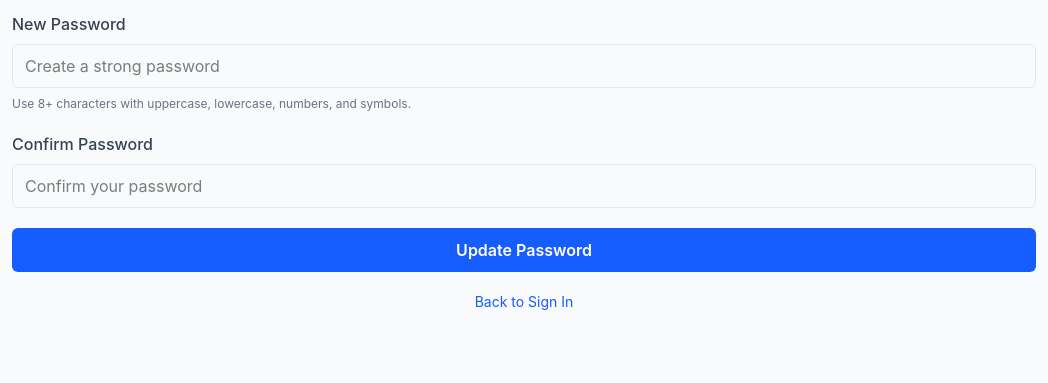
Scenario: ResetPasswordForm › new password mode (with token) › password validation same as registration form
This screenshot has width=1048, height=383.
Type "weak" into the password field labelled "New Password" at coordinates (524, 66), box [12, 44, 1036, 88]
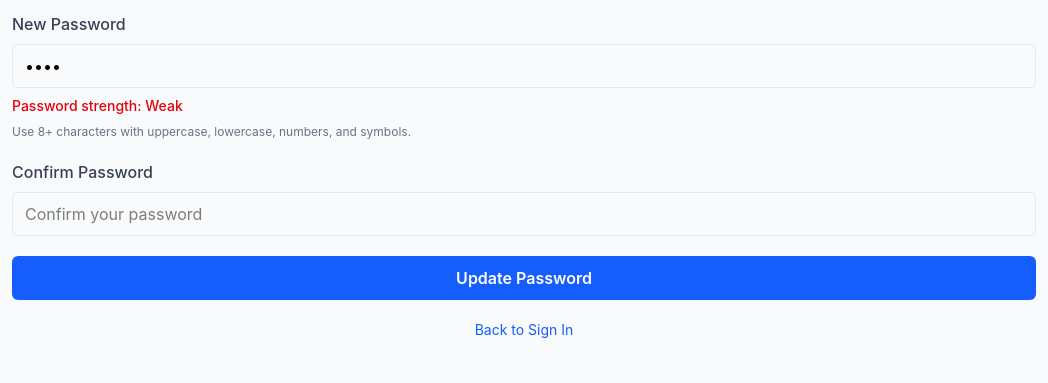
Type "weak" into the password field labelled "Confirm Password" at coordinates (524, 214), box [12, 192, 1036, 236]
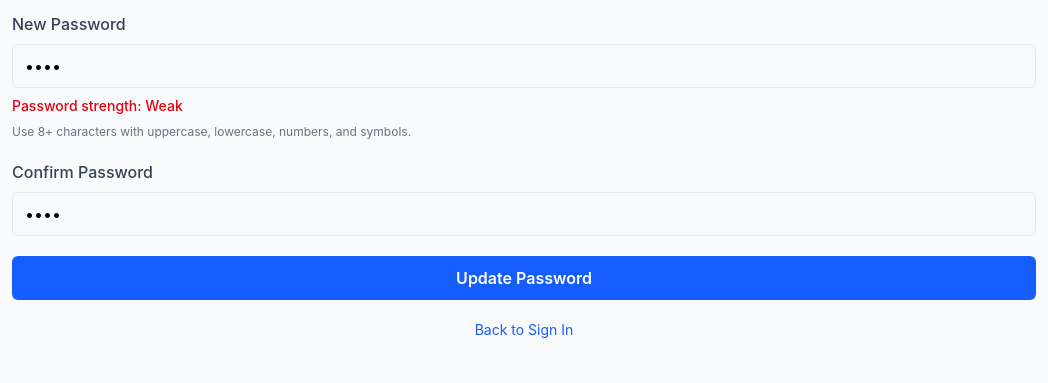
Click the button "Update Password" at coordinates (524, 278), box [12, 256, 1036, 300]
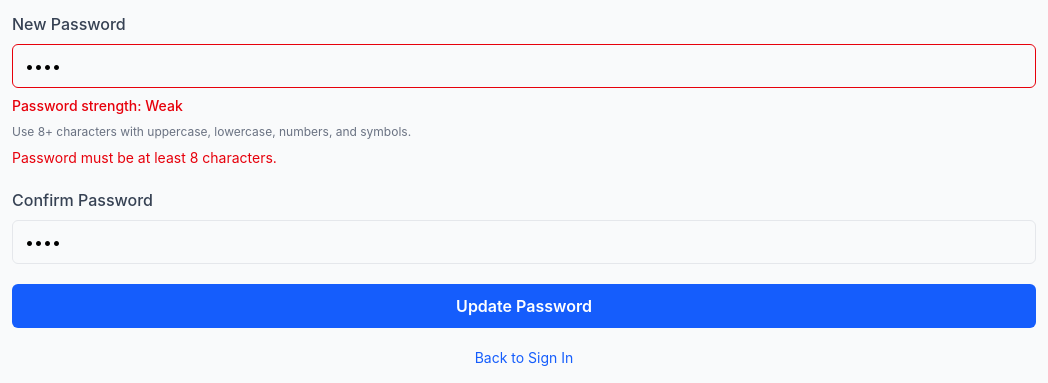
Check: the text "Password must be at least 8 characters." is shown, box [12, 149, 277, 166]
